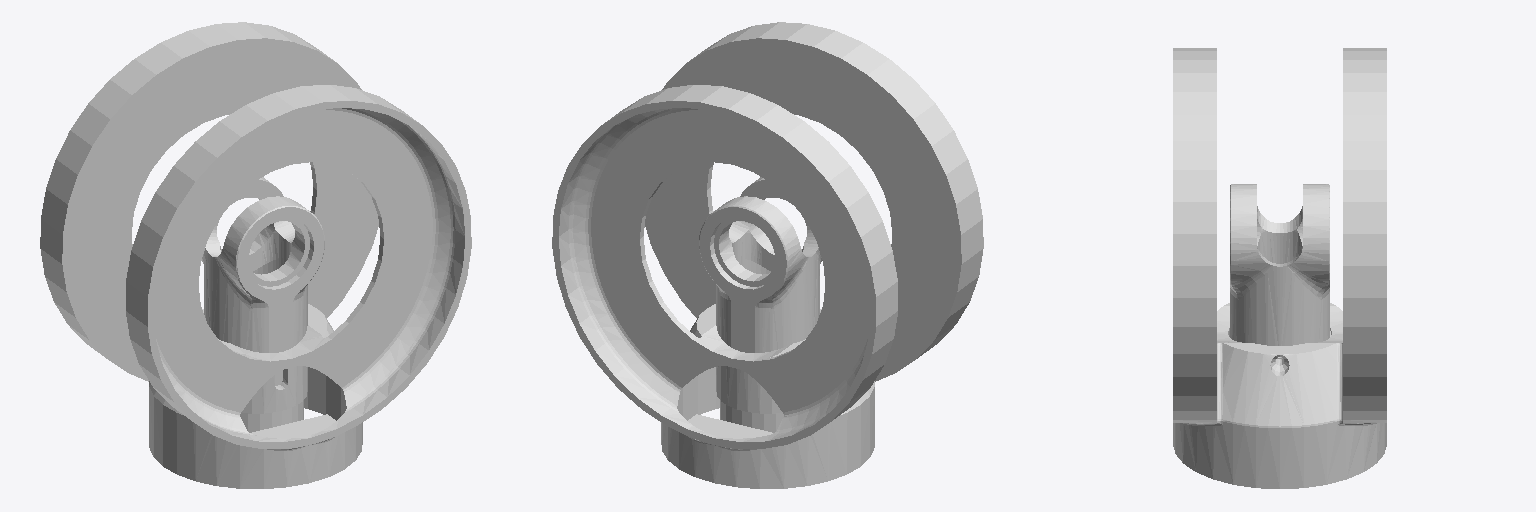
3 views of the same model, side by side, from view 1: azimuth 30°, elevation 25°; view 2: azimuth 150°, elevation 25°; view 3: azimuth 270°, elevation 25° (orthographic).
Visible parts, largest first — view 1: astribot_arm_link_4; view 2: astribot_arm_link_4; view 3: astribot_arm_link_4.
Boxes of the visible parts, x1,y1,x2,y2 form: astribot_arm_link_4: [40, 22, 471, 488]; astribot_arm_link_4: [552, 22, 983, 488]; astribot_arm_link_4: [1173, 48, 1386, 488].
Bounding box in the file's own units: 0.0977 × 0.1092 × 0.056.